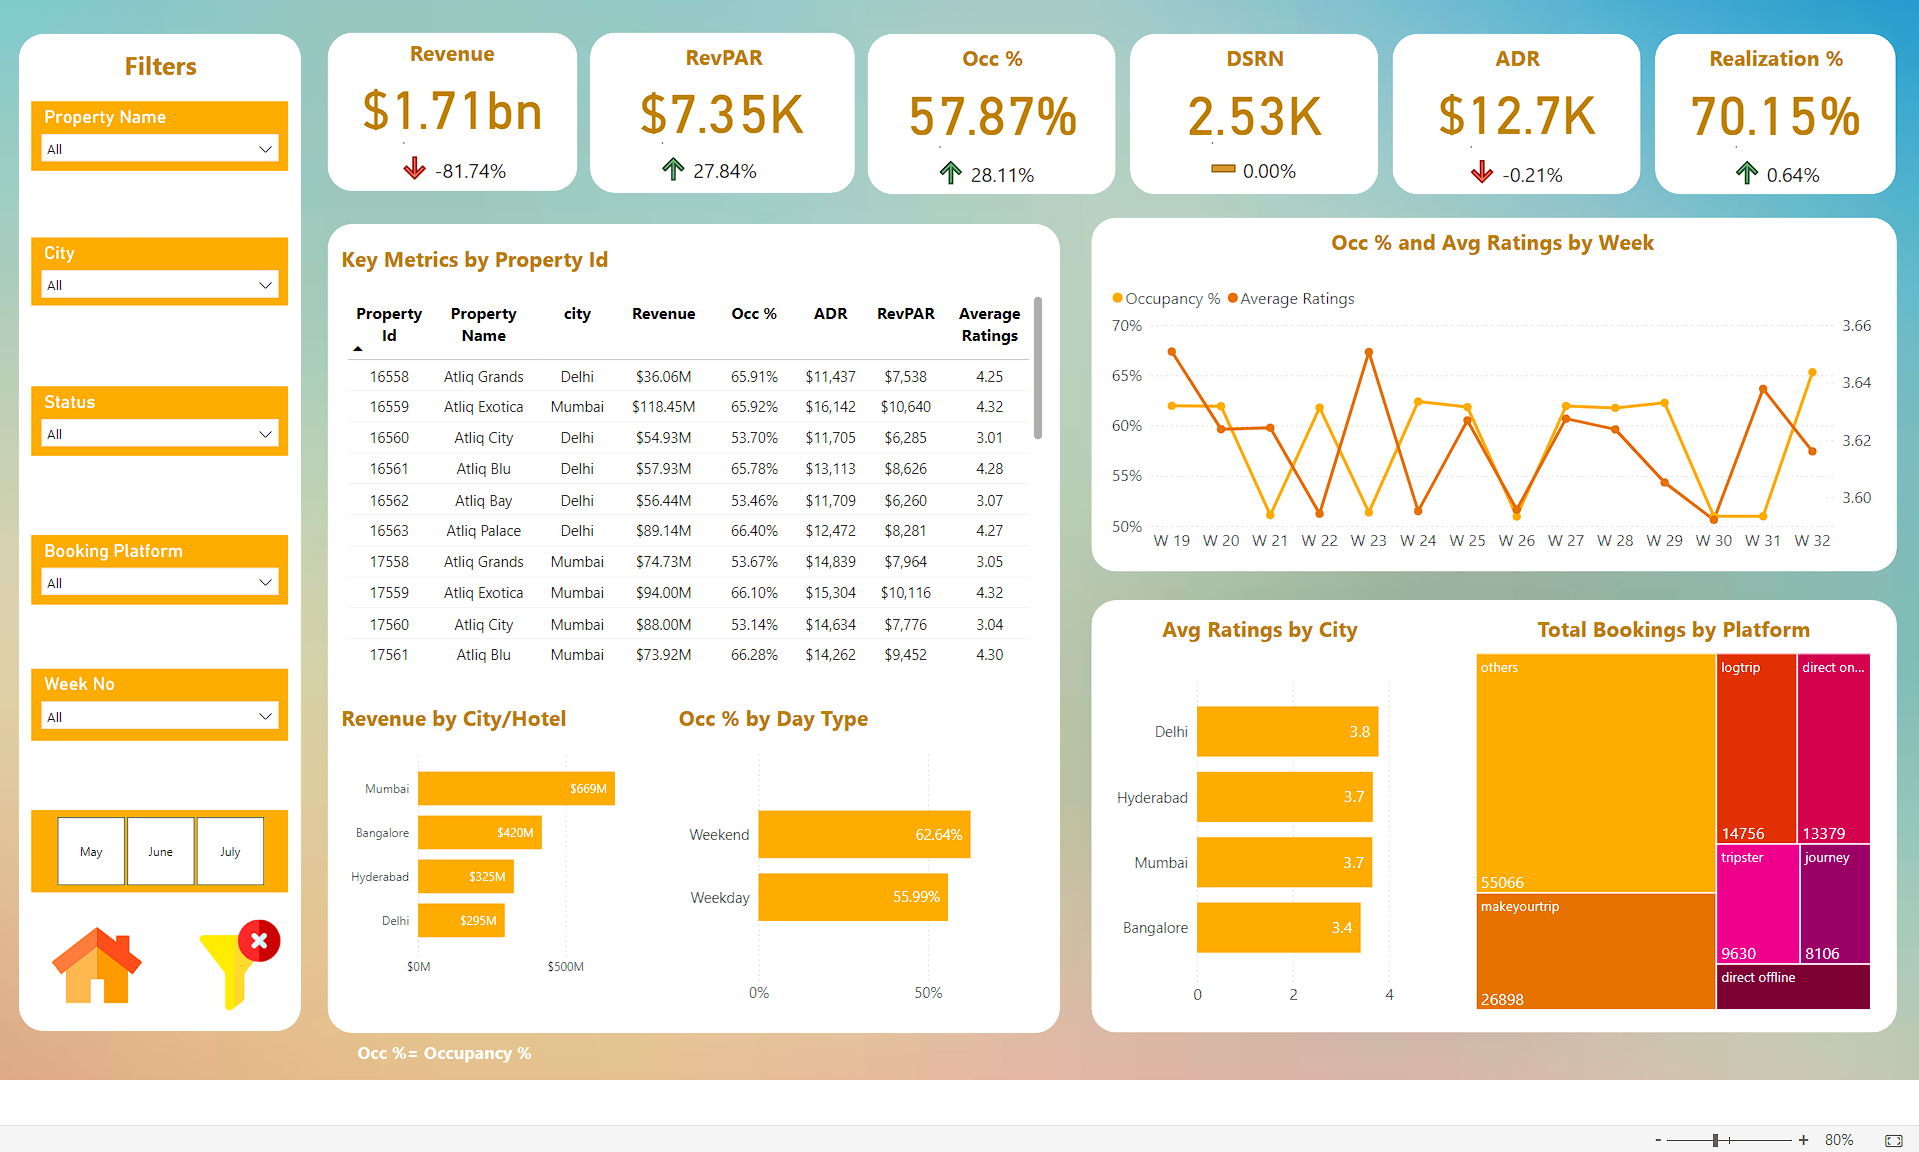

The page's visual inventory and layout, read from the dashboard file:
{"tool":"powerbi","page":{"name":"Executive View","canvas":[1920,1080],"ordinal":1},"visuals":[{"type":"shape","box":[589.8,32.9,265.1,160.5],"z":0,"group":"g6"},{"type":"shape","box":[867.8,33.1,248.4,160.5],"z":0,"group":"g4"},{"type":"shape","box":[1130.1,33.1,248.4,160.5],"z":0,"group":"g5"},{"type":"shape","box":[1392.5,33.1,248.4,160.5],"z":0,"group":"g7"},{"type":"shape","box":[1655.2,33.1,240.8,160.5],"z":0,"group":"g9"},{"type":"shape","box":[19.1,34.3,282.4,997.5],"z":0,"group":"g3"},{"type":"shape","box":[1091.9,218,805.8,354.1],"z":0,"group":"g1"},{"type":"shape","box":[327.9,223.3,732.6,809.3],"z":0},{"type":"shape","box":[1091.9,600,805.8,432.6],"z":0,"group":"g2"},{"type":"shape","box":[327.9,33.1,250,158.7],"z":1000,"group":"g8"},{"type":"lineChart","fields":{"Category":["dim_date.week no"],"Y":["DAX Measures.Occupancy %"],"Y2":["DAX Measures.Average Ratings"]},"box":[1107.4,276.6,771.1,286.1],"z":1000,"group":"g1"},{"type":"tableEx","fields":{"Values":["dim_hotels.property_id","dim_hotels.property_name","dim_hotels.city","DAX Measures.Revenue","DAX Measures.Occupancy %","DAX Measures.ADR","DAX Measures.RevPAR","DAX Measures.Average Ratings"]},"box":[341.9,291.3,706.4,376.7],"z":1000},{"type":"barChart","fields":{"Category":["dim_hotels.city"],"Y":["DAX Measures.Average Ratings"]},"box":[1106.9,667.1,341.1,348.7],"z":1000,"group":"g2"},{"type":"slicer","fields":{"Values":["dim_date.date.Variation.Date Hierarchy.Month"]},"box":[31.5,810.8,256.9,82.1],"z":1000,"group":"g3"},{"type":"card","fields":{"Values":["DAX Measures.Revenue"]},"box":[353.8,73.2,197.8,62.7],"z":2000,"group":"g8"},{"type":"slicer","fields":{"Values":["dim_hotels.property_name"]},"box":[31.9,102,256.9,69.9],"z":2000,"group":"g3"},{"type":"treemap","fields":{"Group":["fact_bookings.booking_platform"],"Values":["DAX Measures.Total Bookings"]},"box":[1472.4,648.8,404.7,366.3],"z":2000,"group":"g2"},{"type":"barChart","fields":{"Y":["DAX Measures.Revenue"],"Category":["dim_hotels.city","dim_hotels.property_name"]},"box":[341.9,741.3,336.6,244.2],"z":2000},{"type":"card","fields":{"Values":["DAX Measures.RevPAR"]},"box":[616.5,76.7,211,62.8],"z":3000,"group":"g6"},{"type":"card","fields":{"Values":["DAX Measures.Occupancy %"]},"box":[892.5,76.7,199,62.8],"z":3000,"group":"g4"},{"type":"card","fields":{"Values":["DAX Measures.DSRN"]},"box":[1154.8,76.7,199,62.8],"z":3000,"group":"g5"},{"type":"card","fields":{"Values":["DAX Measures.ADR"]},"box":[1417.2,76.7,199,62.8],"z":3000,"group":"g7"},{"type":"card","fields":{"Values":["DAX Measures.Realization %"]},"box":[1679.1,76.7,193,62.8],"z":3000,"group":"g9"},{"type":"group","id":"g1","title":"Group 2","box":[1091.9,218,805.8,354.1],"z":3000},{"type":"slicer","fields":{"Values":["dim_hotels.city"]},"box":[31.9,238.3,256.9,68.1],"z":3000,"group":"g3"},{"type":"slicer","fields":{"Values":["fact_bookings.booking_status"]},"box":[31.9,386.8,256.9,69.9],"z":4000,"group":"g3"},{"type":"group","id":"g2","title":"Group 3","box":[1091.9,600,805.8,432.6],"z":4000},{"type":"group","id":"g3","title":"Filters","box":[19.1,34.3,282.4,997.5],"z":5000},{"type":"slicer","fields":{"Values":["fact_bookings.booking_platform"]},"box":[31.9,535.3,256.9,69.9],"z":5000,"group":"g3"},{"type":"shape","box":[341.9,233.4,673.3,48.8],"z":6000},{"type":"slicer","fields":{"Values":["dim_date.week no"]},"box":[31.9,669.9,256.9,71.6],"z":6000,"group":"g3"},{"type":"shape","box":[341.9,694.2,336.6,47.1],"z":7000},{"type":"shape","box":[1107.6,219.8,770.9,43.6],"z":8000},{"type":"shape","box":[1107.6,607,305.2,41.9],"z":9000},{"type":"shape","box":[1461.6,607,425.6,41.9],"z":10000},{"type":"shape","box":[17.5,43.7,286.6,41.9],"z":11000},{"type":"image","box":[189.7,914.6,99.9,99.9],"z":12000},{"type":"image","box":[32.2,914.6,128.7,99.9],"z":13000},{"type":"shape","box":[328.6,1033.2,232,35.6],"z":14000},{"type":"shape","box":[327.9,31.4,249.5,41.8],"z":15000,"group":"g8"},{"type":"group","id":"g4","title":"Group 1","box":[867.8,33.1,250,160.5],"z":15000},{"type":"group","id":"g5","title":"Group 1","box":[1130.1,33.1,250,160.5],"z":16000},{"type":"group","id":"g6","title":"Group 1","box":[589.8,32.9,265.6,160.5],"z":17000},{"type":"shape","box":[592,36.6,263.4,40.1],"z":17000,"group":"g6"},{"type":"shape","box":[869.4,36.6,248.4,40.1],"z":17000,"group":"g4"},{"type":"shape","box":[1131.7,36.6,248.4,40.1],"z":17000,"group":"g5"},{"type":"shape","box":[1394.1,36.6,248.4,40.1],"z":17000,"group":"g7"},{"type":"shape","box":[1656.8,36.6,240.8,40.1],"z":17000,"group":"g9"},{"type":"group","id":"g7","title":"Group 1","box":[1392.5,33.1,250,160.5],"z":18000},{"type":"group","id":"g8","title":"Group 4","box":[327.9,31.4,250,160.5],"z":19000},{"type":"group","id":"g9","title":"Group 1","box":[1655.2,33.1,240.7,160.5],"z":20000},{"type":"tableEx","fields":{"Values":["DAX Measures.Revenue WoW change %"]},"box":[390.7,125.6,125.6,64.5],"z":21000},{"type":"tableEx","fields":{"Values":["DAX Measures.RevPAR WoW change %"]},"box":[650.6,125.6,129.1,68],"z":22000},{"type":"tableEx","fields":{"Values":["DAX Measures.Occupancy WoW change %"]},"box":[927.9,129.1,132.6,64.5],"z":23000},{"type":"tableEx","fields":{"Values":["DAX Measures.DSRN WoW change %"]},"box":[1200,125.6,109.9,68],"z":24000},{"type":"tableEx","fields":{"Values":["DAX Measures.ADR WoW change %"]},"box":[1458.1,129.1,120.3,66.3],"z":25000},{"type":"tableEx","fields":{"Values":["DAX Measures.Realization WoW change %"]},"box":[1723.3,129.1,118.6,64.5],"z":26000},{"type":"barChart","fields":{"Category":["dim_date.day type"],"Y":["DAX Measures.Occupancy %"]},"box":[678.5,741.3,369.8,272.1],"z":27000},{"type":"shape","box":[678.5,694.2,369.8,47.1],"z":28000}]}

Visuals, with their boxes on the page's 1920x1080 design canvas (x1, y1, x2, y2). These are canvas units, not pixel positions in the 1919x1152 screenshot, which may show the page scaled, cropped or inside an application window:
shape: pyautogui.locateOnScreen(590, 33, 855, 193)
shape: pyautogui.locateOnScreen(868, 33, 1116, 194)
shape: pyautogui.locateOnScreen(1130, 33, 1378, 194)
shape: pyautogui.locateOnScreen(1392, 33, 1641, 194)
shape: pyautogui.locateOnScreen(1655, 33, 1896, 194)
shape: pyautogui.locateOnScreen(19, 34, 302, 1032)
shape: pyautogui.locateOnScreen(1092, 218, 1898, 572)
shape: pyautogui.locateOnScreen(328, 223, 1060, 1033)
shape: pyautogui.locateOnScreen(1092, 600, 1898, 1033)
shape: pyautogui.locateOnScreen(328, 33, 578, 192)
lineChart - dim_date.week no x DAX Measures.Occupancy %: pyautogui.locateOnScreen(1107, 277, 1878, 563)
tableEx - dim_hotels.property_id x dim_hotels.property_name: pyautogui.locateOnScreen(342, 291, 1048, 668)
barChart - dim_hotels.city x DAX Measures.Average Ratings: pyautogui.locateOnScreen(1107, 667, 1448, 1016)
slicer - dim_date.date.Variation.Date Hierarchy.Month: pyautogui.locateOnScreen(32, 811, 288, 893)
card - DAX Measures.Revenue: pyautogui.locateOnScreen(354, 73, 552, 136)
slicer - dim_hotels.property_name: pyautogui.locateOnScreen(32, 102, 289, 172)
treemap - fact_bookings.booking_platform x DAX Measures.Total Bookings: pyautogui.locateOnScreen(1472, 649, 1877, 1015)
barChart - DAX Measures.Revenue x dim_hotels.city: pyautogui.locateOnScreen(342, 741, 678, 986)
card - DAX Measures.RevPAR: pyautogui.locateOnScreen(616, 77, 828, 140)
card - DAX Measures.Occupancy %: pyautogui.locateOnScreen(892, 77, 1092, 140)
card - DAX Measures.DSRN: pyautogui.locateOnScreen(1155, 77, 1354, 140)
card - DAX Measures.ADR: pyautogui.locateOnScreen(1417, 77, 1616, 140)
card - DAX Measures.Realization %: pyautogui.locateOnScreen(1679, 77, 1872, 140)
"Group 2" group: pyautogui.locateOnScreen(1092, 218, 1898, 572)
slicer - dim_hotels.city: pyautogui.locateOnScreen(32, 238, 289, 306)
slicer - fact_bookings.booking_status: pyautogui.locateOnScreen(32, 387, 289, 457)
"Group 3" group: pyautogui.locateOnScreen(1092, 600, 1898, 1033)
"Filters" group: pyautogui.locateOnScreen(19, 34, 302, 1032)
slicer - fact_bookings.booking_platform: pyautogui.locateOnScreen(32, 535, 289, 605)
shape: pyautogui.locateOnScreen(342, 233, 1015, 282)
slicer - dim_date.week no: pyautogui.locateOnScreen(32, 670, 289, 742)
shape: pyautogui.locateOnScreen(342, 694, 678, 741)
shape: pyautogui.locateOnScreen(1108, 220, 1878, 263)
shape: pyautogui.locateOnScreen(1108, 607, 1413, 649)
shape: pyautogui.locateOnScreen(1462, 607, 1887, 649)
shape: pyautogui.locateOnScreen(18, 44, 304, 86)
image: pyautogui.locateOnScreen(190, 915, 290, 1014)
image: pyautogui.locateOnScreen(32, 915, 161, 1014)
shape: pyautogui.locateOnScreen(329, 1033, 561, 1069)
shape: pyautogui.locateOnScreen(328, 31, 577, 73)
"Group 1" group: pyautogui.locateOnScreen(868, 33, 1118, 194)
"Group 1" group: pyautogui.locateOnScreen(1130, 33, 1380, 194)
"Group 1" group: pyautogui.locateOnScreen(590, 33, 855, 193)
shape: pyautogui.locateOnScreen(592, 37, 855, 77)
shape: pyautogui.locateOnScreen(869, 37, 1118, 77)
shape: pyautogui.locateOnScreen(1132, 37, 1380, 77)
shape: pyautogui.locateOnScreen(1394, 37, 1642, 77)
shape: pyautogui.locateOnScreen(1657, 37, 1898, 77)
"Group 1" group: pyautogui.locateOnScreen(1392, 33, 1642, 194)
"Group 4" group: pyautogui.locateOnScreen(328, 31, 578, 192)
"Group 1" group: pyautogui.locateOnScreen(1655, 33, 1896, 194)
tableEx - DAX Measures.Revenue WoW change %: pyautogui.locateOnScreen(391, 126, 516, 190)
tableEx - DAX Measures.RevPAR WoW change %: pyautogui.locateOnScreen(651, 126, 780, 194)
tableEx - DAX Measures.Occupancy WoW change %: pyautogui.locateOnScreen(928, 129, 1060, 194)
tableEx - DAX Measures.DSRN WoW change %: pyautogui.locateOnScreen(1200, 126, 1310, 194)
tableEx - DAX Measures.ADR WoW change %: pyautogui.locateOnScreen(1458, 129, 1578, 195)
tableEx - DAX Measures.Realization WoW change %: pyautogui.locateOnScreen(1723, 129, 1842, 194)
barChart - dim_date.day type x DAX Measures.Occupancy %: pyautogui.locateOnScreen(678, 741, 1048, 1013)
shape: pyautogui.locateOnScreen(678, 694, 1048, 741)
